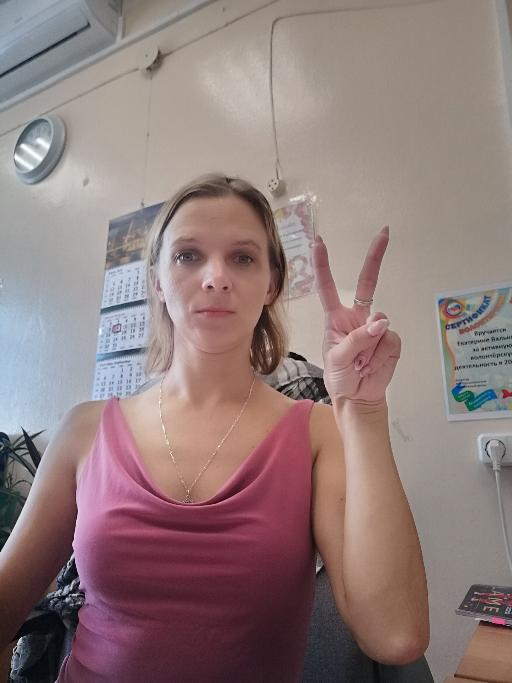peace: (308, 223, 403, 412)
